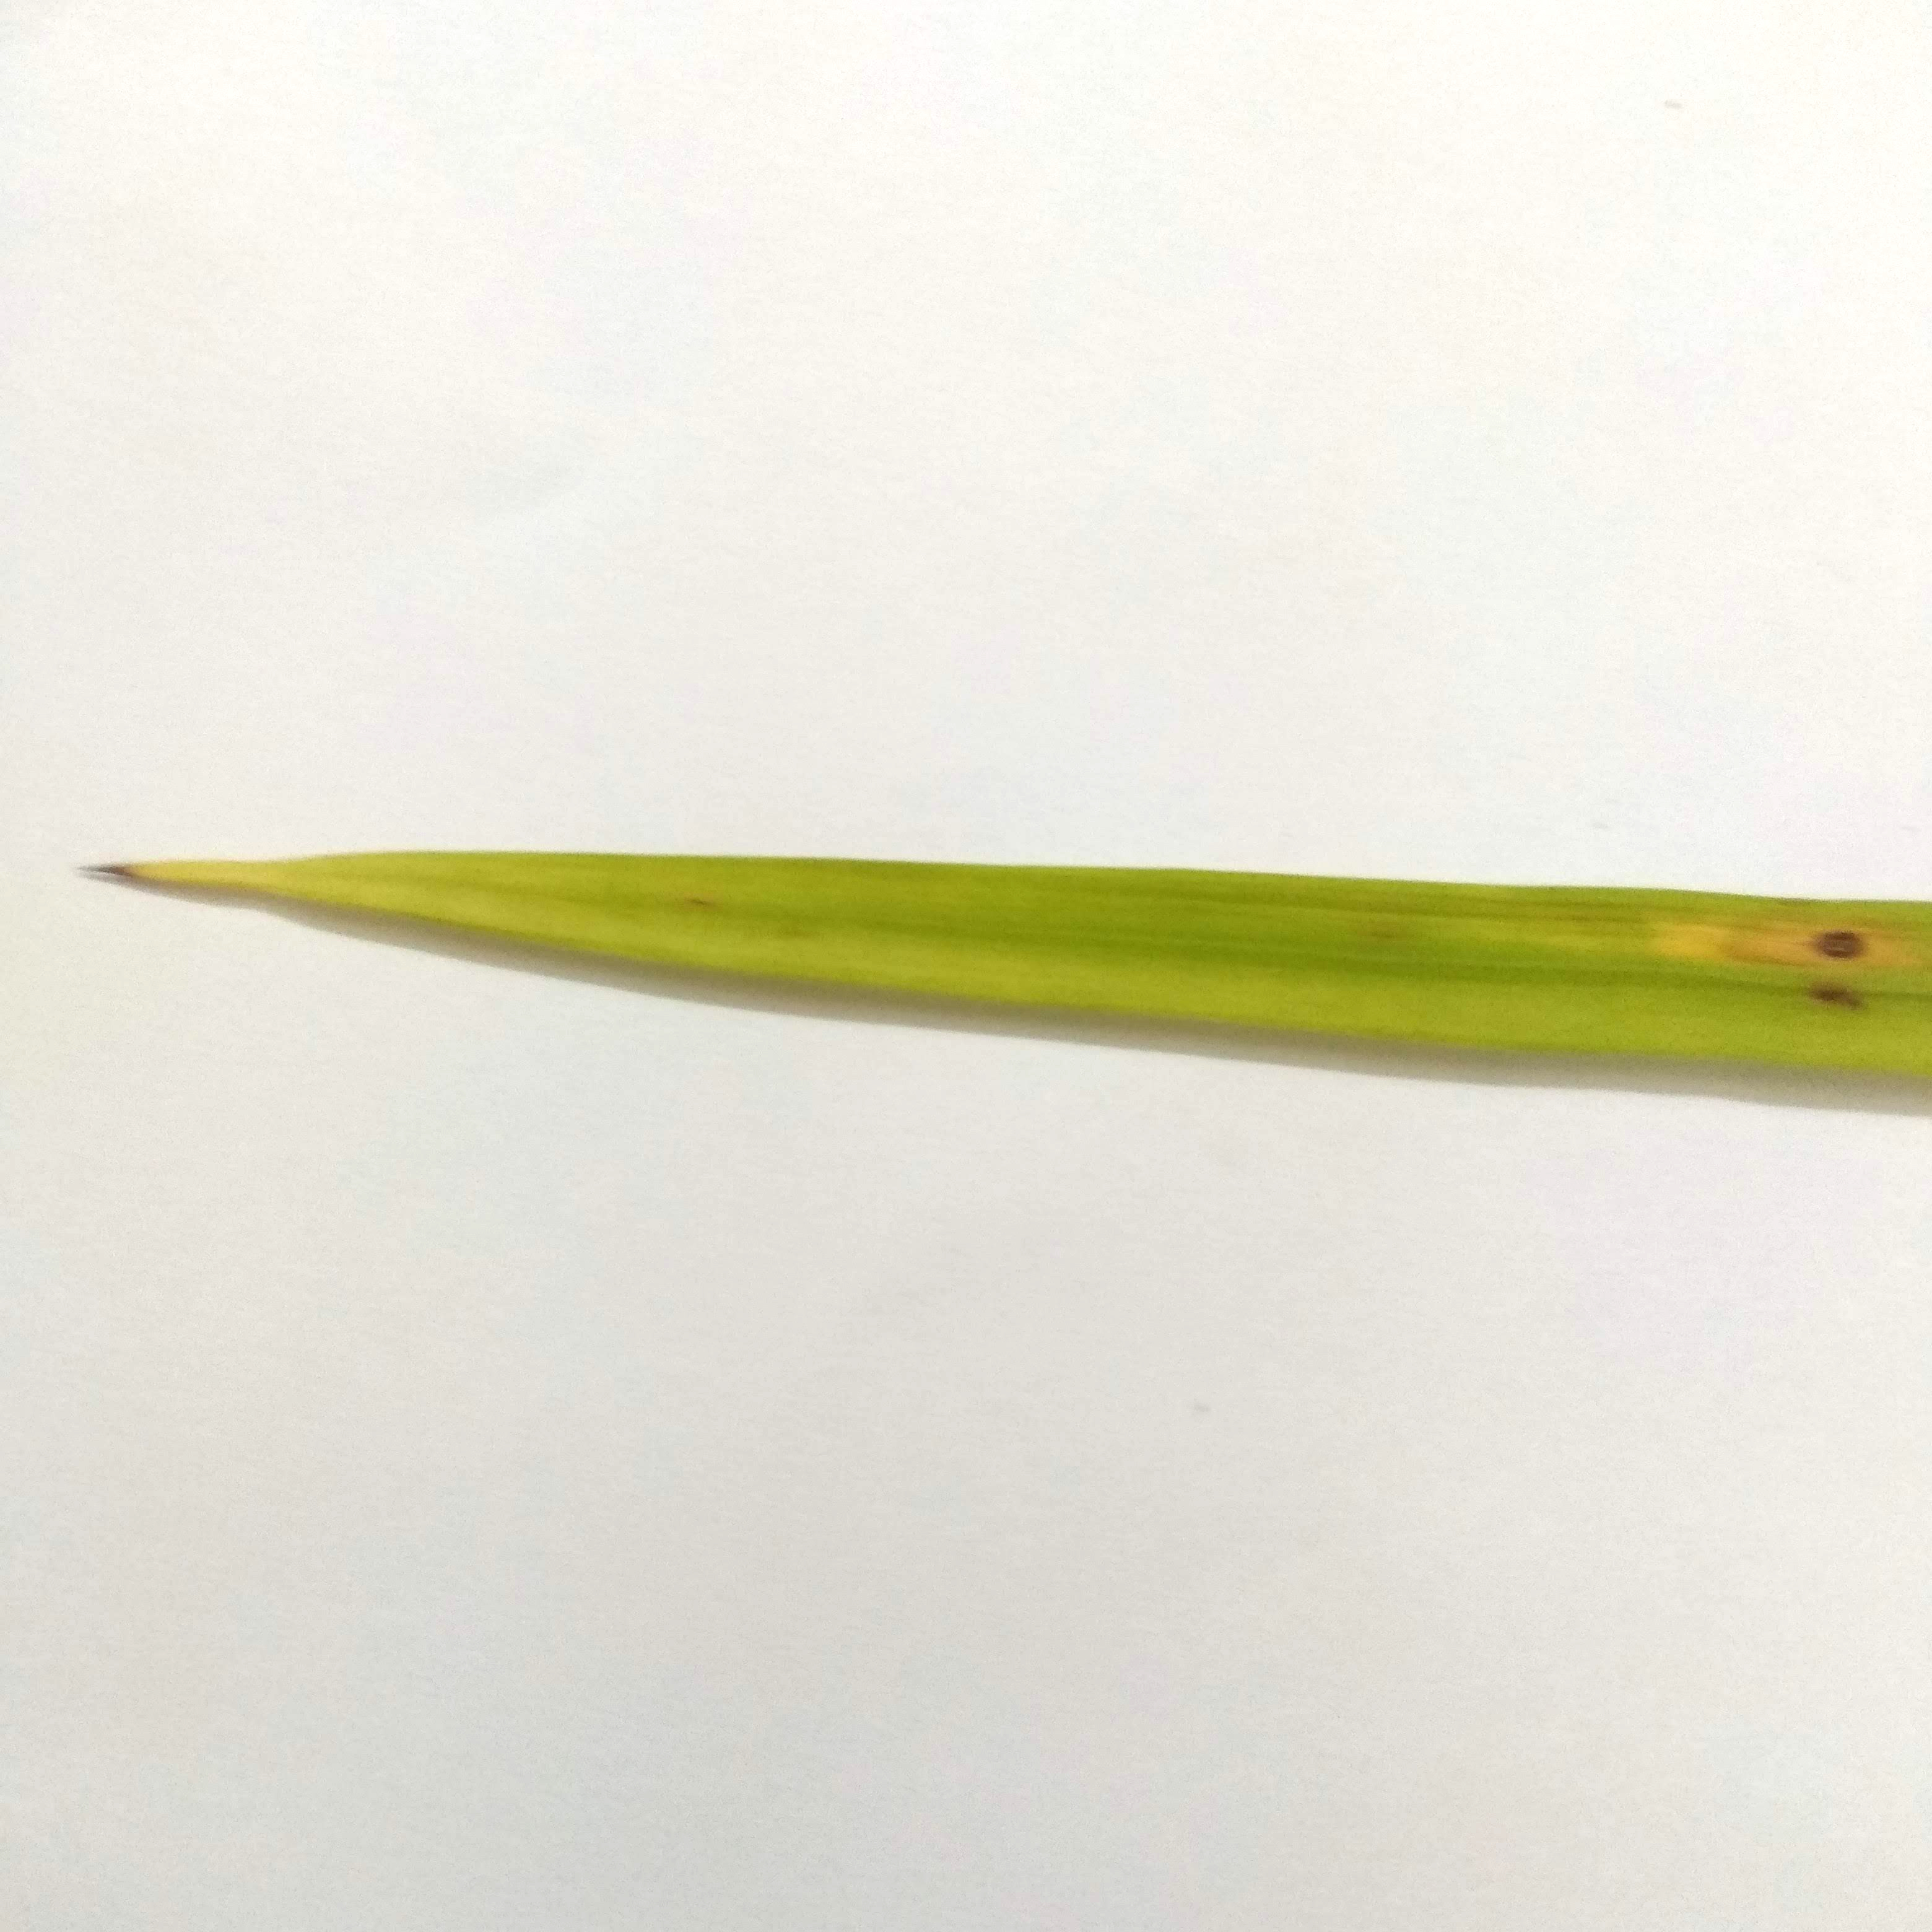brown spot: (1716, 906, 1911, 1021)
